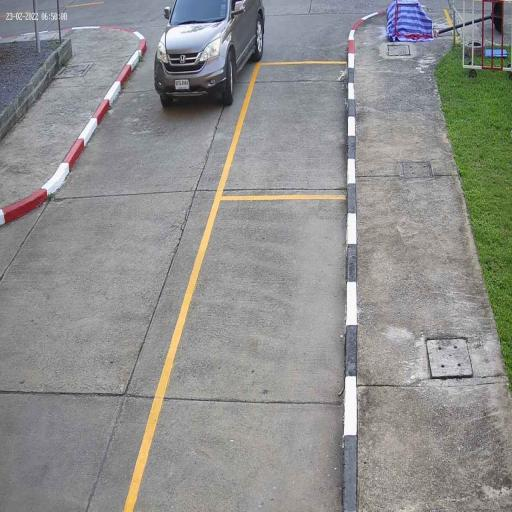car: (153, 0, 266, 111)
